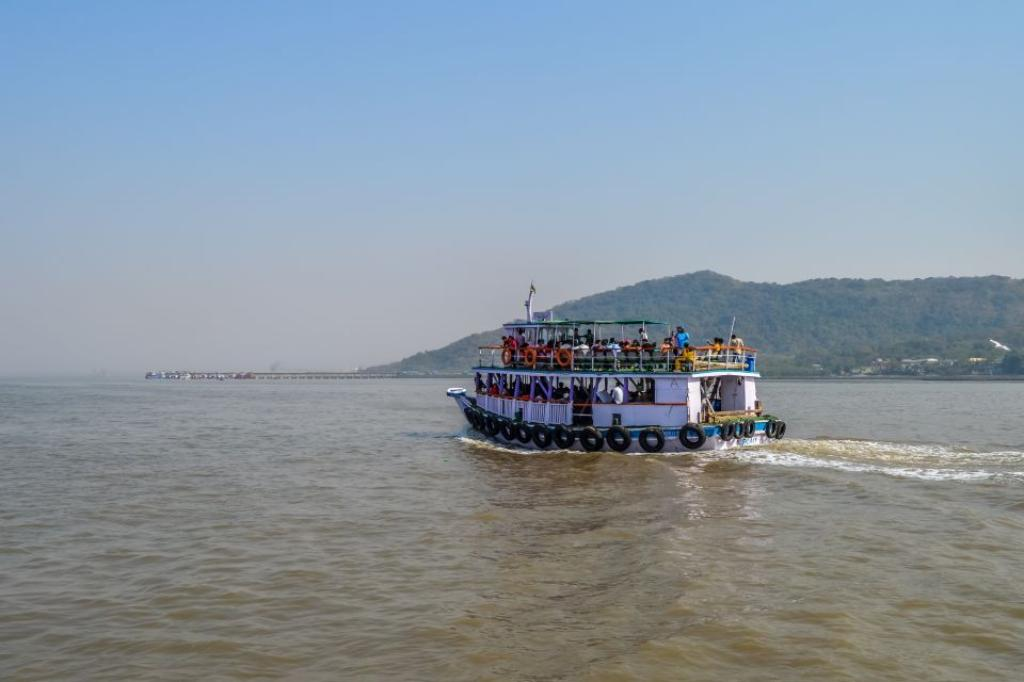PassengerShip: (437, 298, 789, 466)
